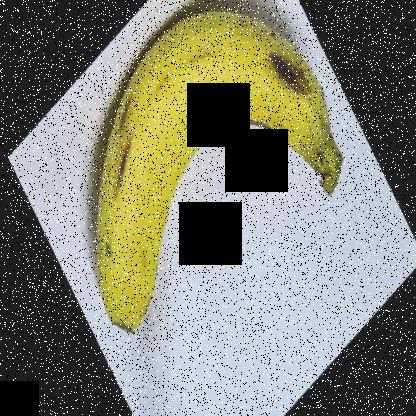freshripe: (87, 2, 346, 346)
